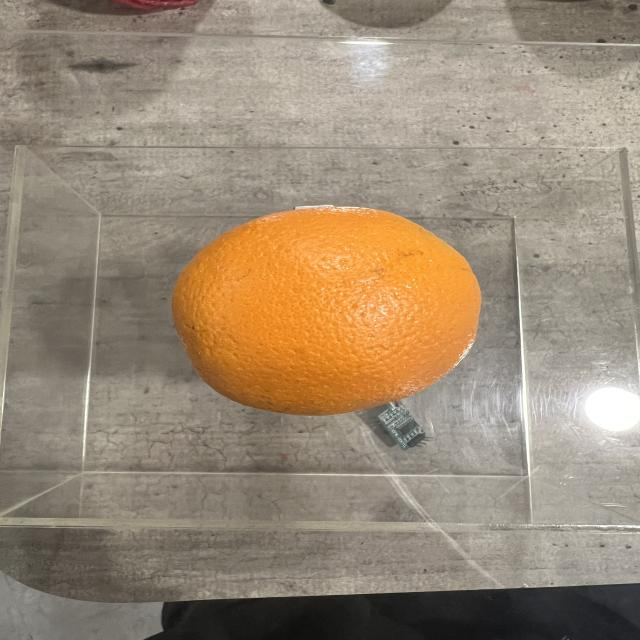orange: (170, 207, 487, 417)
